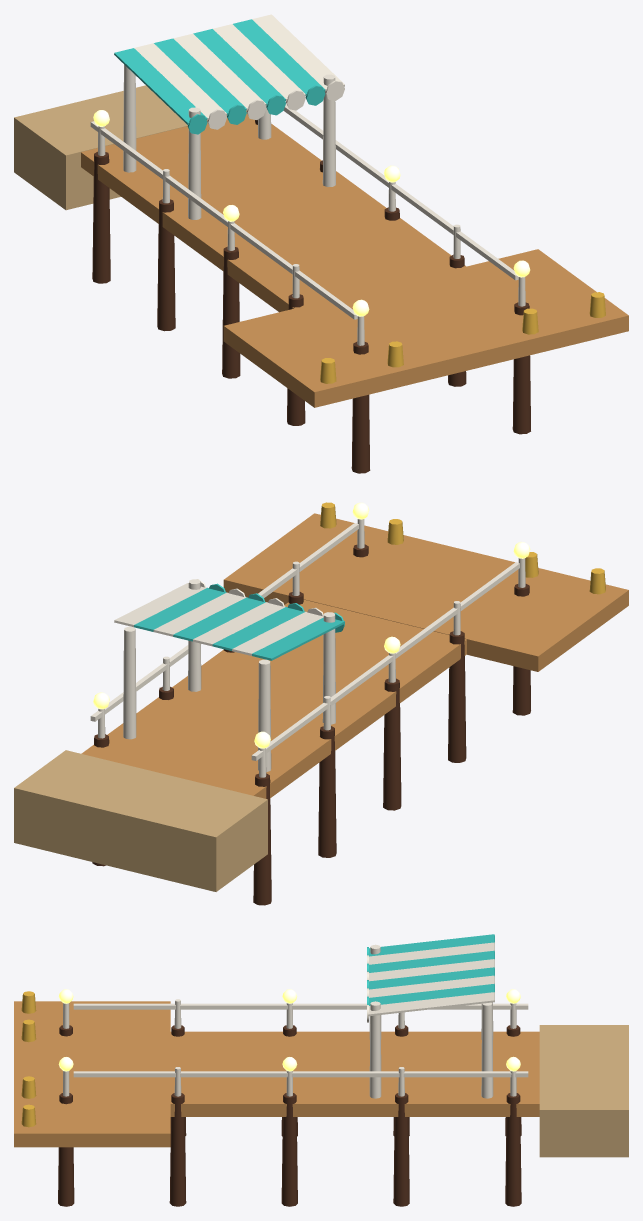
Rendered from central-pier.glb.
The picture shows the model from 3 angles, top to bottom: view 1: azimuth 30°, elevation 25°; view 2: azimuth 150°, elevation 25°; view 3: azimuth 270°, elevation 25°; orthographic projection. The views are drawn at different scales.
Parts seen in each view (by area): view 1: Mesh_lightWood, Mesh_warmWhite, Mesh_darkWood, Mesh_sandStone, Mesh_turquoise, Mesh_gold, Mesh_glowWarm; view 2: Mesh_lightWood, Mesh_sandStone, Mesh_warmWhite, Mesh_darkWood, Mesh_turquoise, Mesh_gold, Mesh_glowWarm; view 3: Mesh_lightWood, Mesh_warmWhite, Mesh_sandStone, Mesh_darkWood, Mesh_turquoise, Mesh_gold, Mesh_glowWarm.
Boxes of the visible parts, <box> form: Mesh_lightWood: <box>81,113,628,407</box>; Mesh_warmWhite: <box>90,14,525,345</box>; Mesh_darkWood: <box>92,120,530,473</box>; Mesh_sandStone: <box>14,85,246,210</box>; Mesh_turquoise: <box>114,19,325,134</box>; Mesh_gold: <box>320,292,605,383</box>; Mesh_glowWarm: <box>93,110,530,316</box>; Mesh_lightWood: <box>81,513,628,798</box>; Mesh_sandStone: <box>14,750,267,891</box>; Mesh_warmWhite: <box>90,519,525,777</box>; Mesh_darkWood: <box>92,544,530,905</box>; Mesh_turquoise: <box>134,583,344,660</box>; Mesh_gold: <box>320,502,605,594</box>; Mesh_glowWarm: <box>93,502,530,748</box>; Mesh_lightWood: <box>14,1001,539,1147</box>; Mesh_warmWhite: <box>63,942,528,1098</box>; Mesh_sandStone: <box>539,1025,628,1157</box>; Mesh_darkWood: <box>58,1025,521,1206</box>; Mesh_turquoise: <box>367,934,494,1005</box>; Mesh_gold: <box>21,991,36,1127</box>; Mesh_glowWarm: <box>58,989,520,1071</box>.
Bounding box in the file's own units: 8.4 × 5.99 × 16.5.
